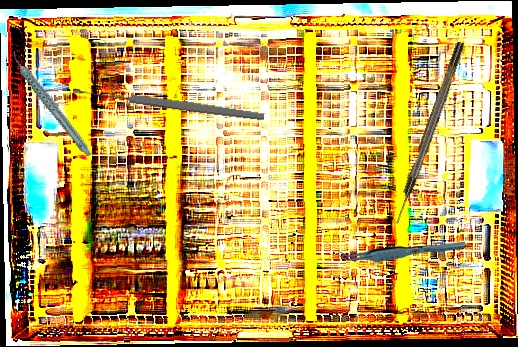Handpiece: (10, 38, 94, 168)
Hook Surgical: (391, 41, 467, 225)
Surgical Spoon: (72, 84, 265, 123)
Tissue Forceps: (338, 238, 466, 265)
